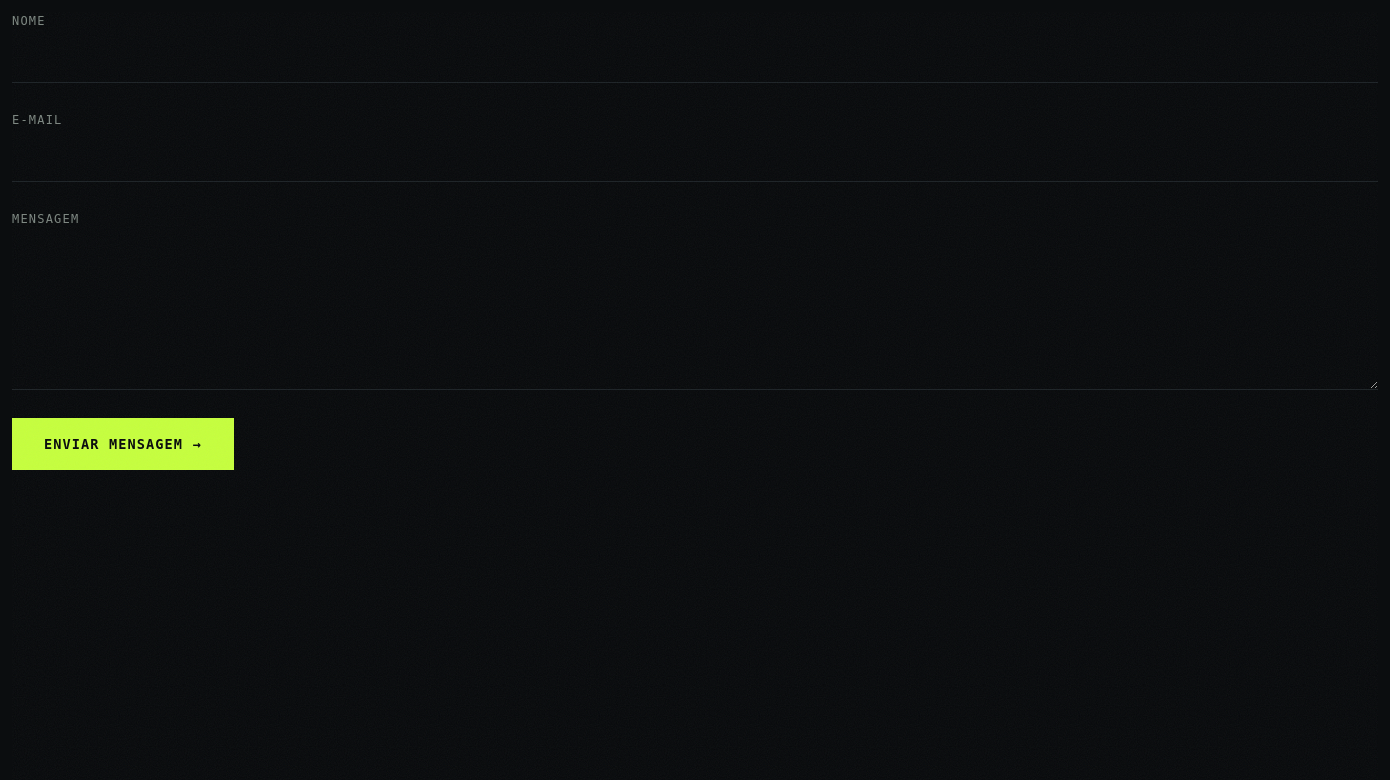
FormularioContato › tira o erro do campo depois de corrigido e reenviado
Click the button "Enviar mensagem →" at (123, 444), box [12, 418, 234, 470]
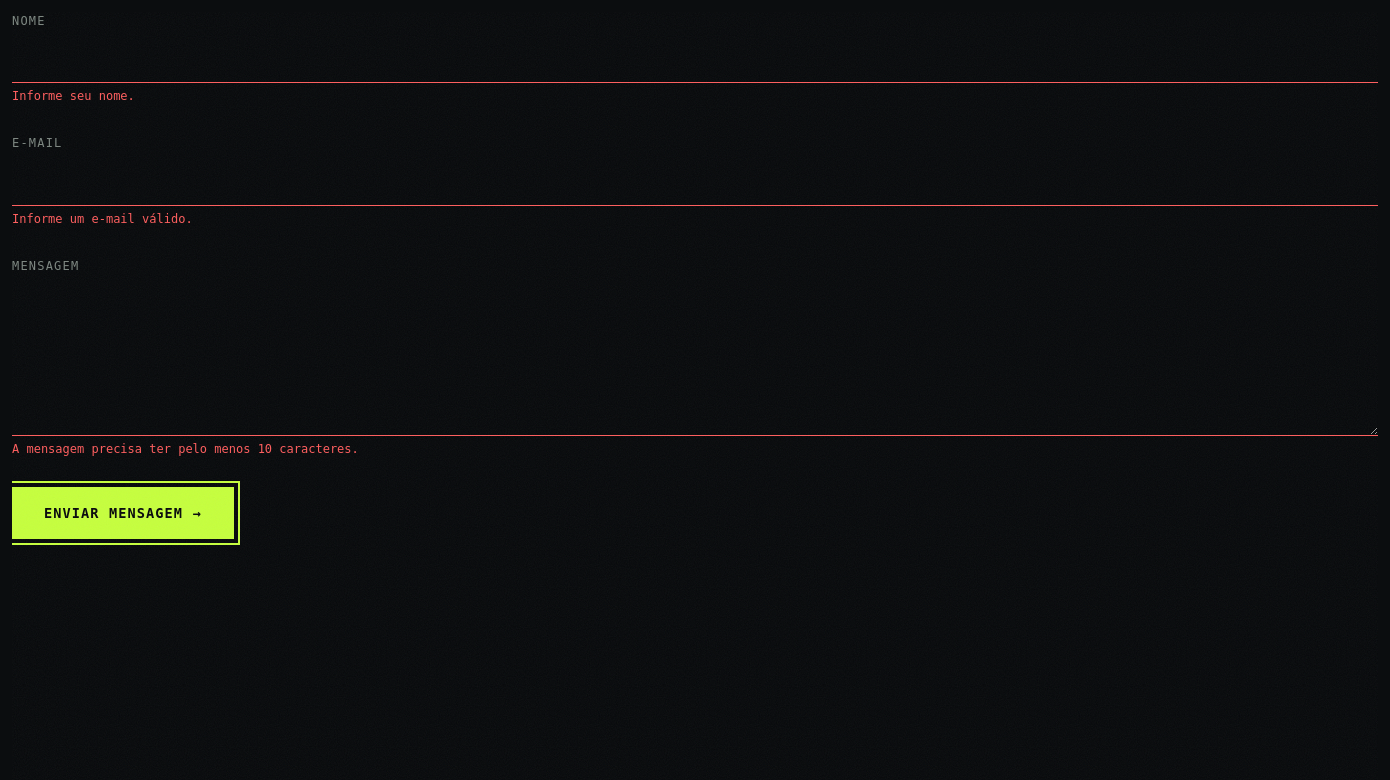
Type "Ana" into the field labelled "Nome Informe seu nome." at (695, 59), box [12, 35, 1378, 83]
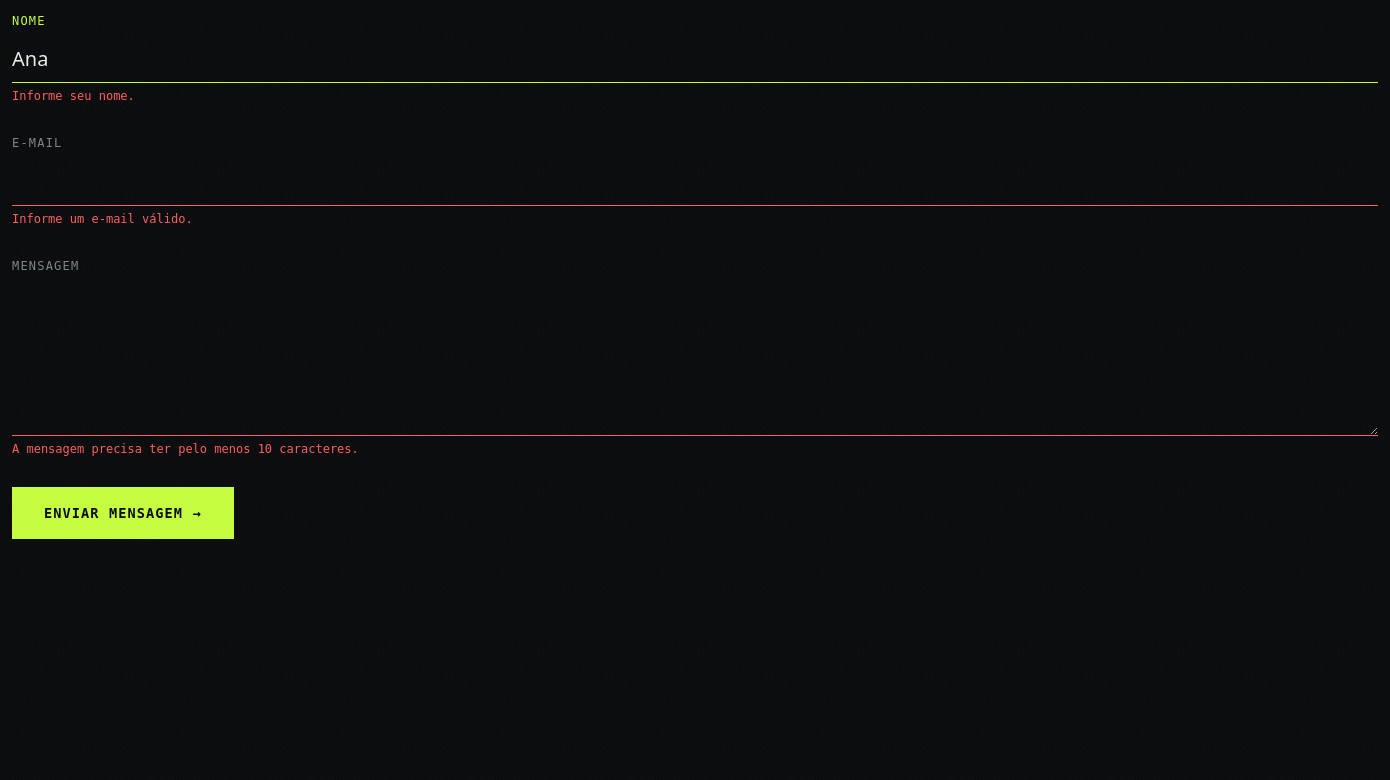
Click the button "Enviar mensagem →" at (123, 513), box [12, 487, 234, 539]
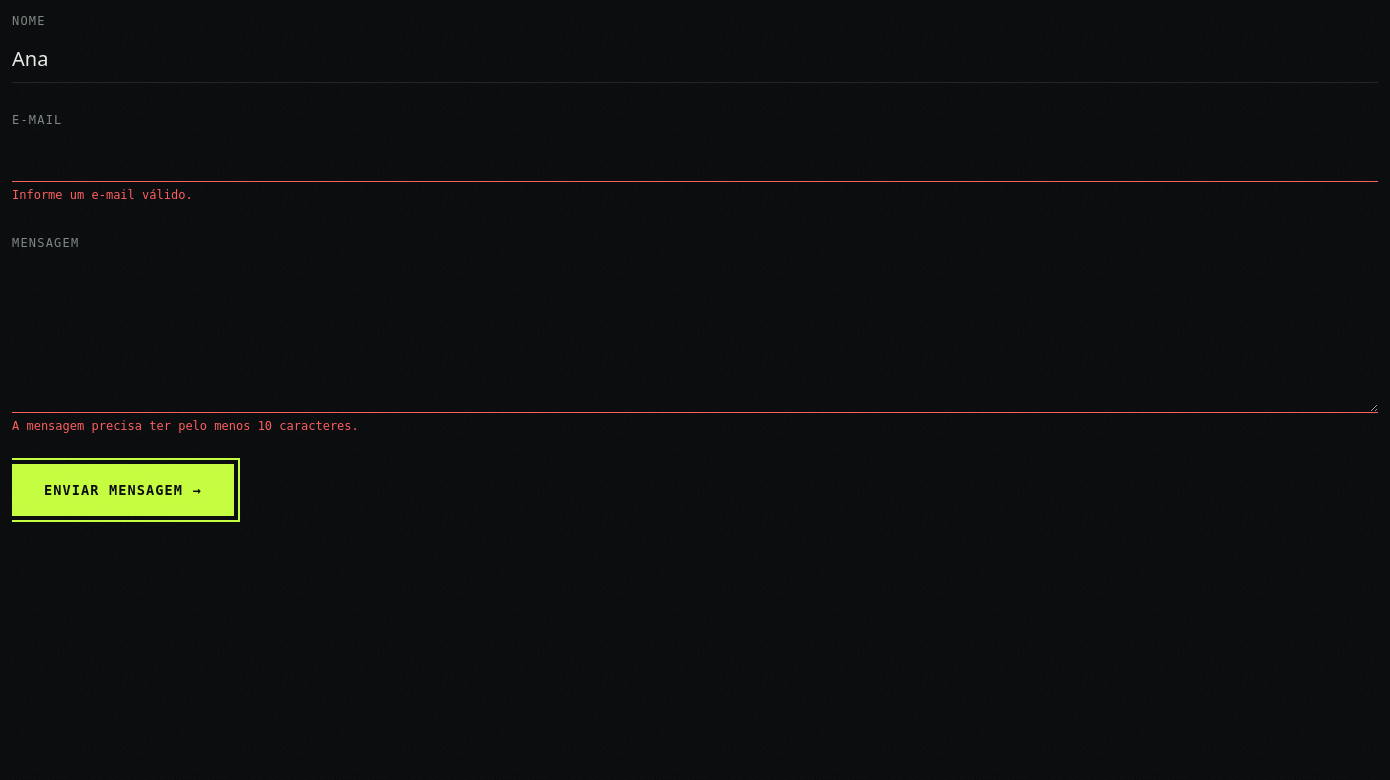
Expected: the text "Informe um e-mail válido." is shown, [12, 188, 193, 202]
Expected: the text "Informe seu nome." is gone
